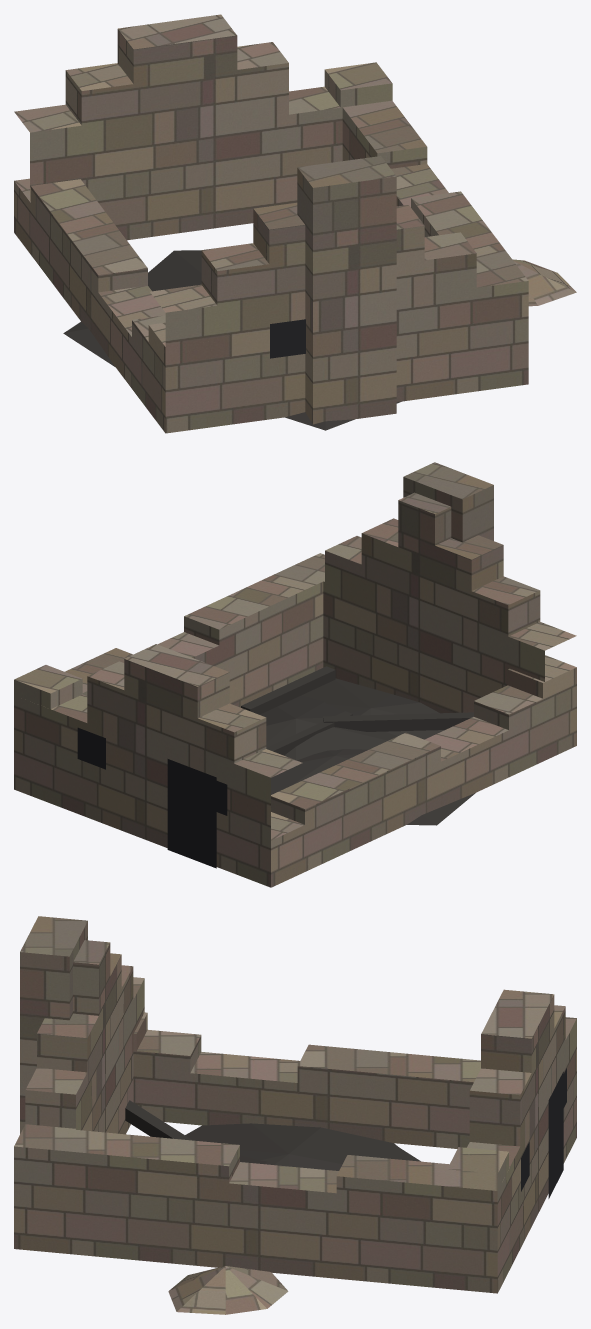
3 renders of one model, top to bottom at view 1: azimuth 30°, elevation 25°; view 2: azimuth 150°, elevation 25°; view 3: azimuth 270°, elevation 25°, orthographic. The views are drawn at different scales.
Visible parts, largest first — view 1: b001080_ruin_wall, b001080_ruin_char, b001080_ruin_glass; view 2: b001080_ruin_wall, b001080_ruin_char, b001080_ruin_glass; view 3: b001080_ruin_wall, b001080_ruin_char, b001080_ruin_glass.
Boxes of the visible parts, x1,y1,x2,y2 form: b001080_ruin_wall: (14, 14, 576, 433); b001080_ruin_char: (63, 250, 401, 430); b001080_ruin_glass: (270, 319, 305, 358); b001080_ruin_wall: (14, 462, 576, 887); b001080_ruin_char: (241, 666, 475, 825); b001080_ruin_glass: (77, 727, 227, 868); b001080_ruin_wall: (14, 916, 576, 1314); b001080_ruin_char: (125, 1100, 420, 1170); b001080_ruin_glass: (521, 1068, 566, 1198).
Size of the model in its own units: 6.95 by 3.43 by 7.46.
3 materials, 1 textured.
